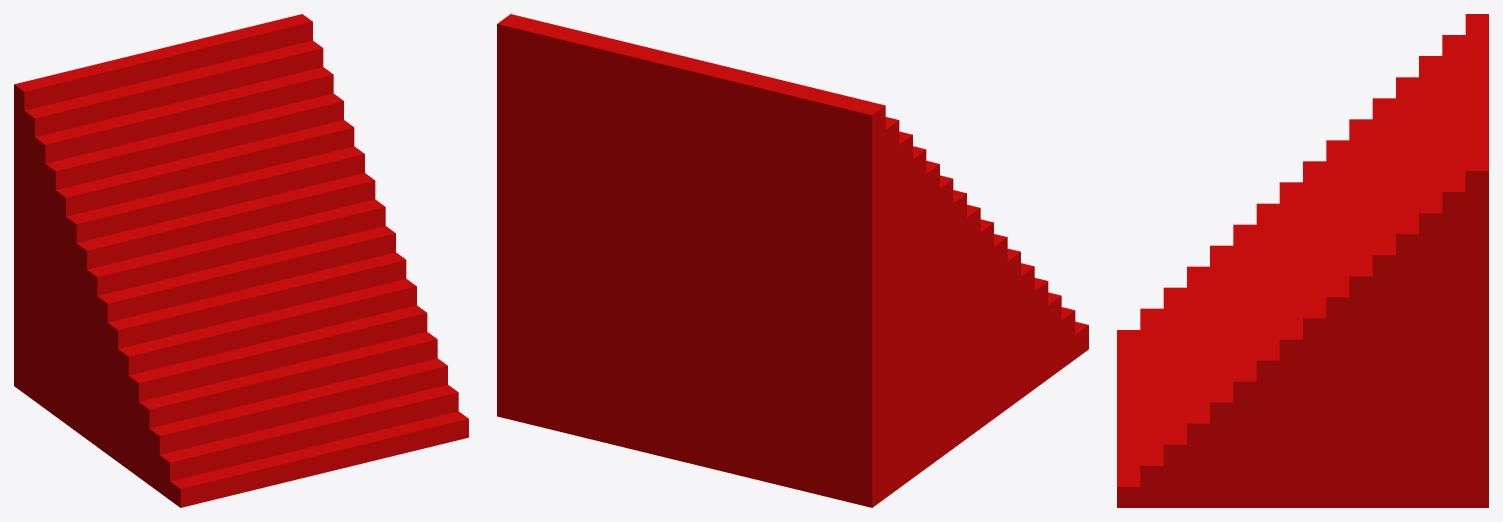
Rendered from triangle.obj.
3 renders of one model, left to right at view 1: azimuth 30°, elevation 25°; view 2: azimuth 150°, elevation 25°; view 3: azimuth 270°, elevation 25°, orthographic. The views are drawn at different scales.
Size of the model in its own units: 1.6 by 1.6 by 1.6.
1 material, 1 textured.
